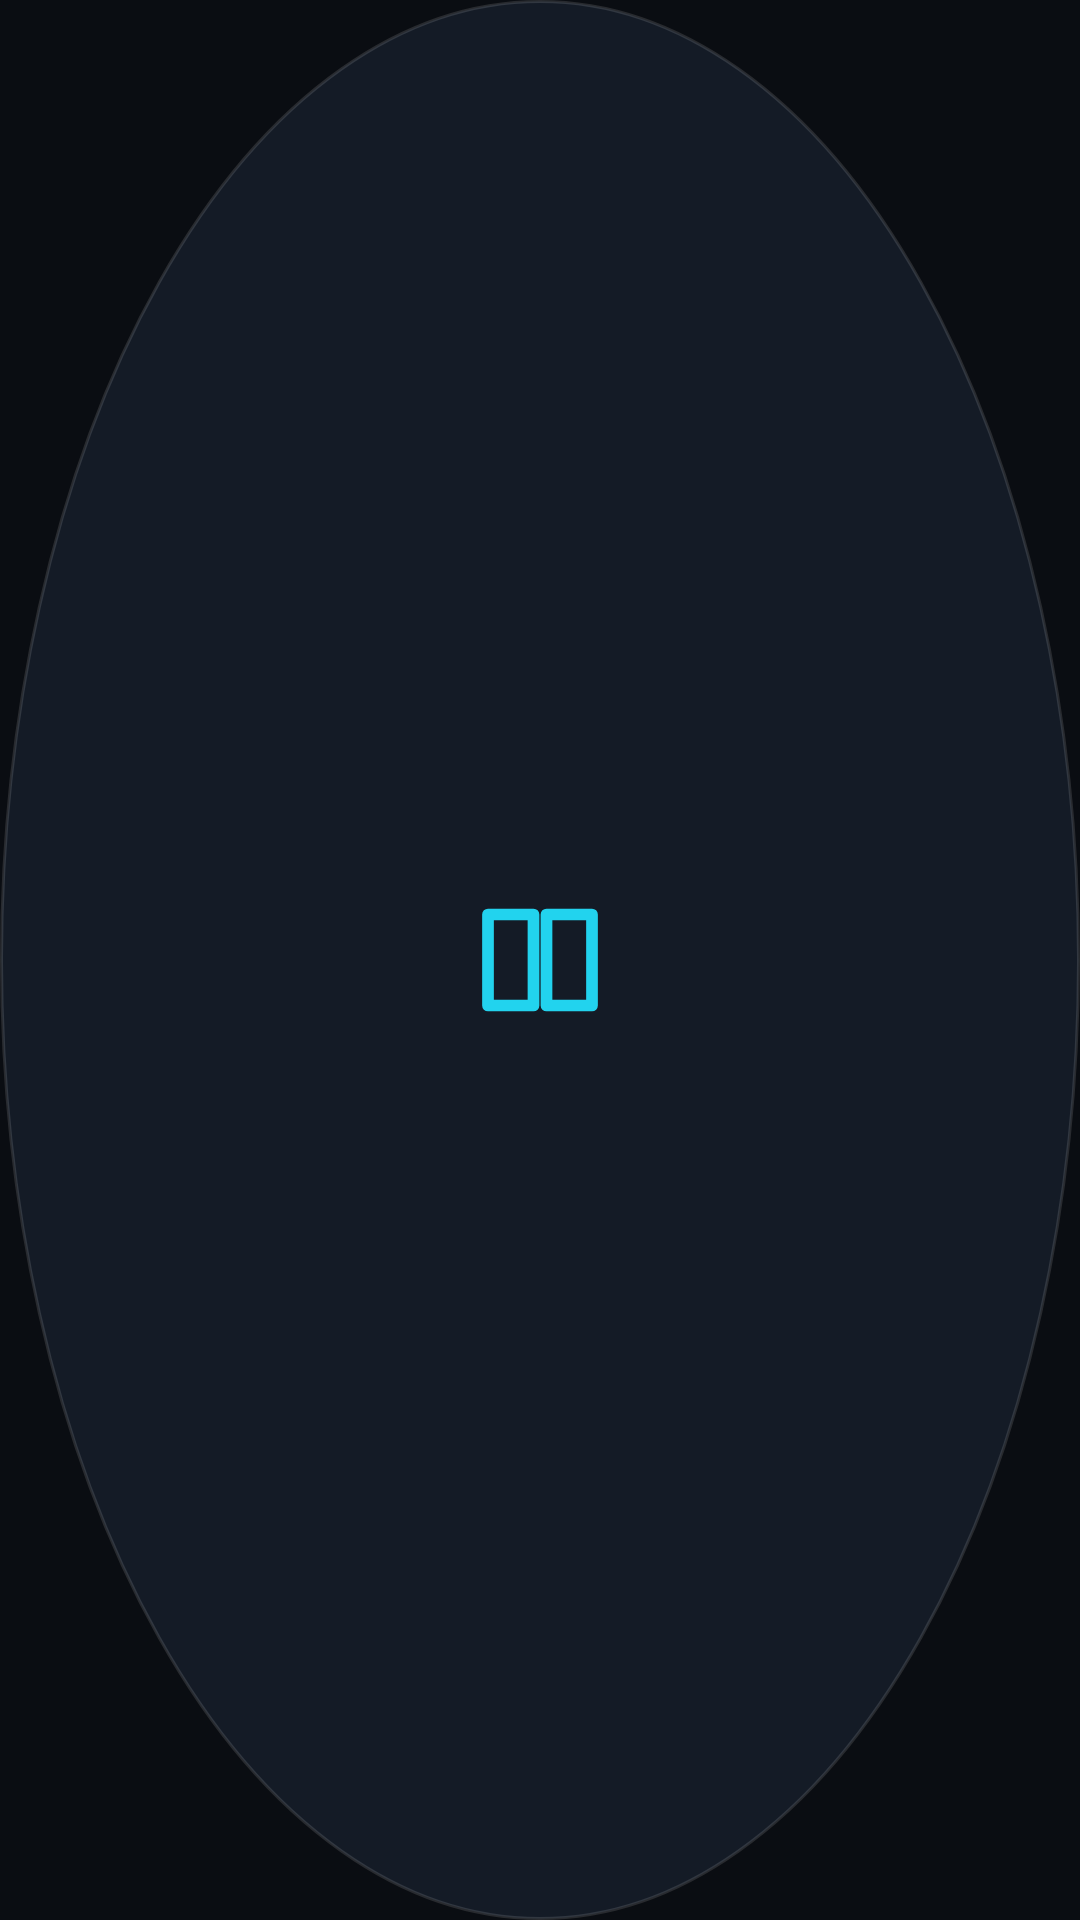

Screen size 1080*1920. Icon name, then its center in pixels as (x,y):
Reopen the two apps: (540,960)
